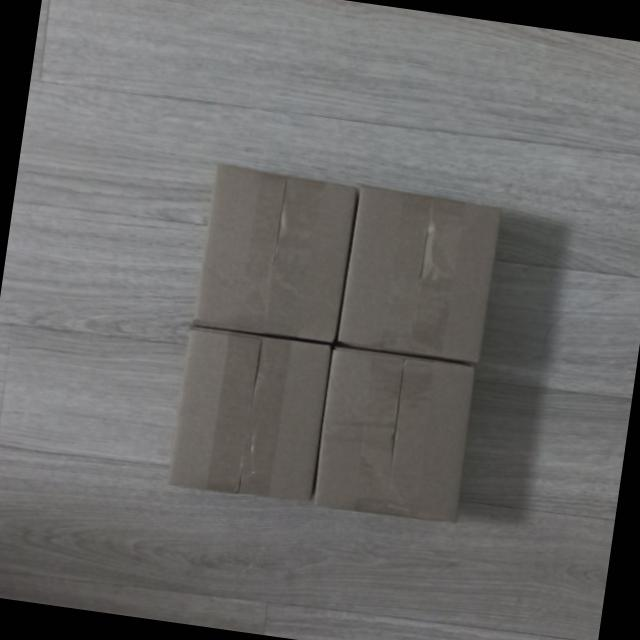box: (306, 341, 486, 531), (162, 322, 338, 510), (190, 158, 361, 350), (332, 186, 508, 370)
